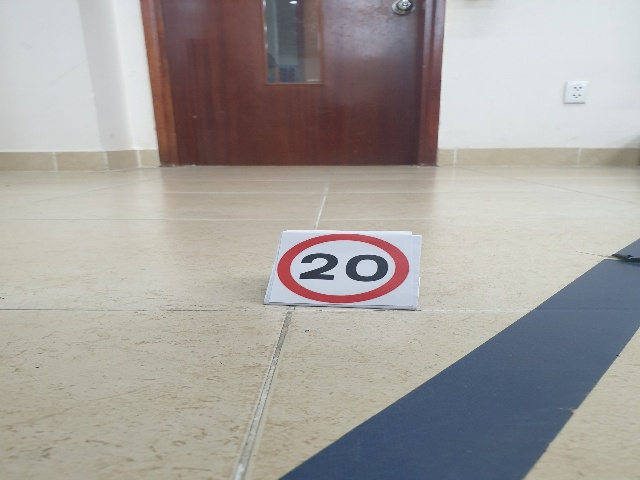Limit 20: (276, 235, 410, 303)
